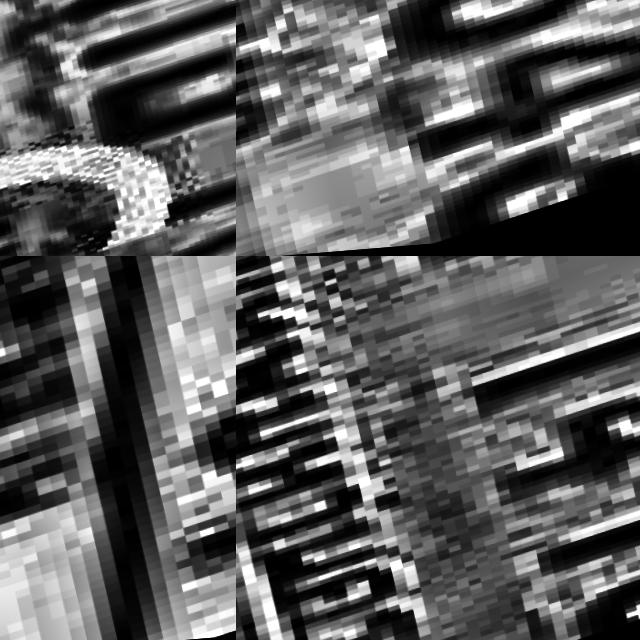license-plate: (236, 256, 640, 640), (236, 0, 640, 256), (0, 256, 236, 640), (0, 0, 236, 256)
